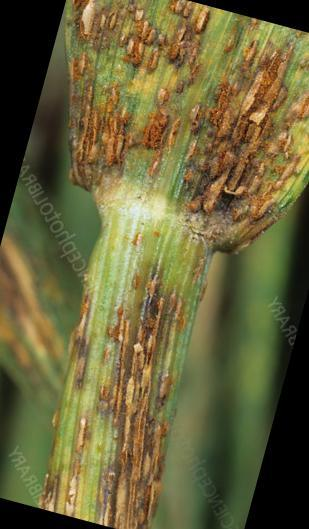Wheat: (49, 245, 202, 529), (83, 2, 183, 185), (190, 52, 290, 210)
